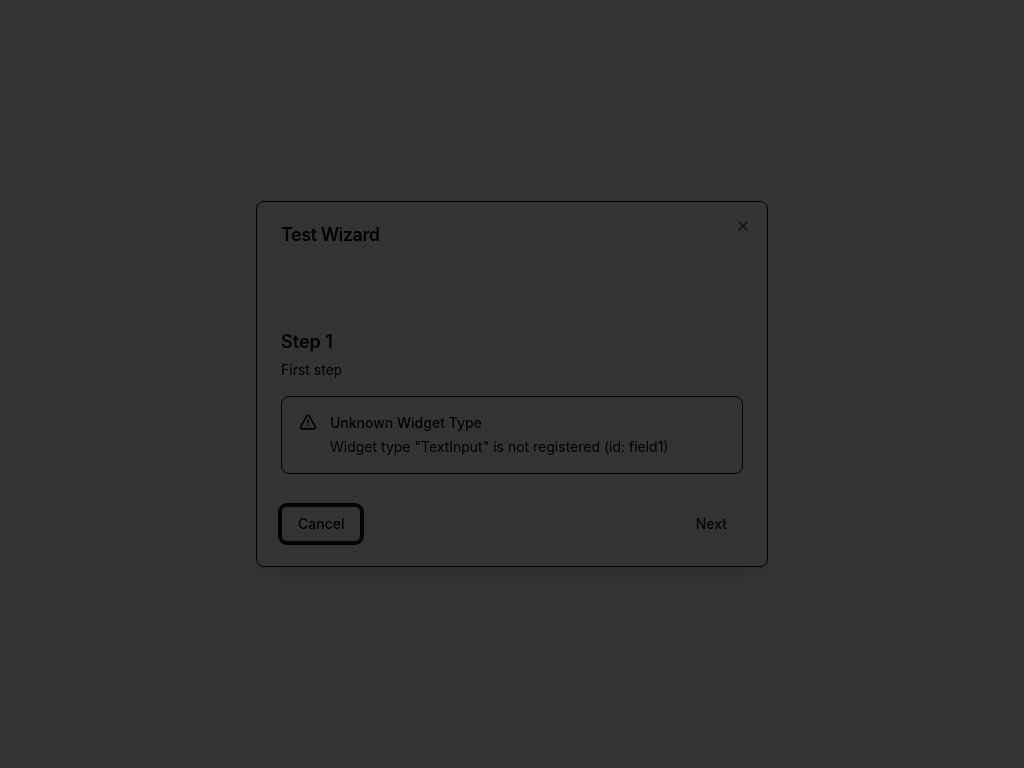
Test: WizardWidget › navigates to next step when Next is clicked
This screenshot has width=1024, height=768.
What coordinates should you click on to do the following:
click the button "Next"
I would click on:
 (711, 524)
Its box is [680,506,743,542].
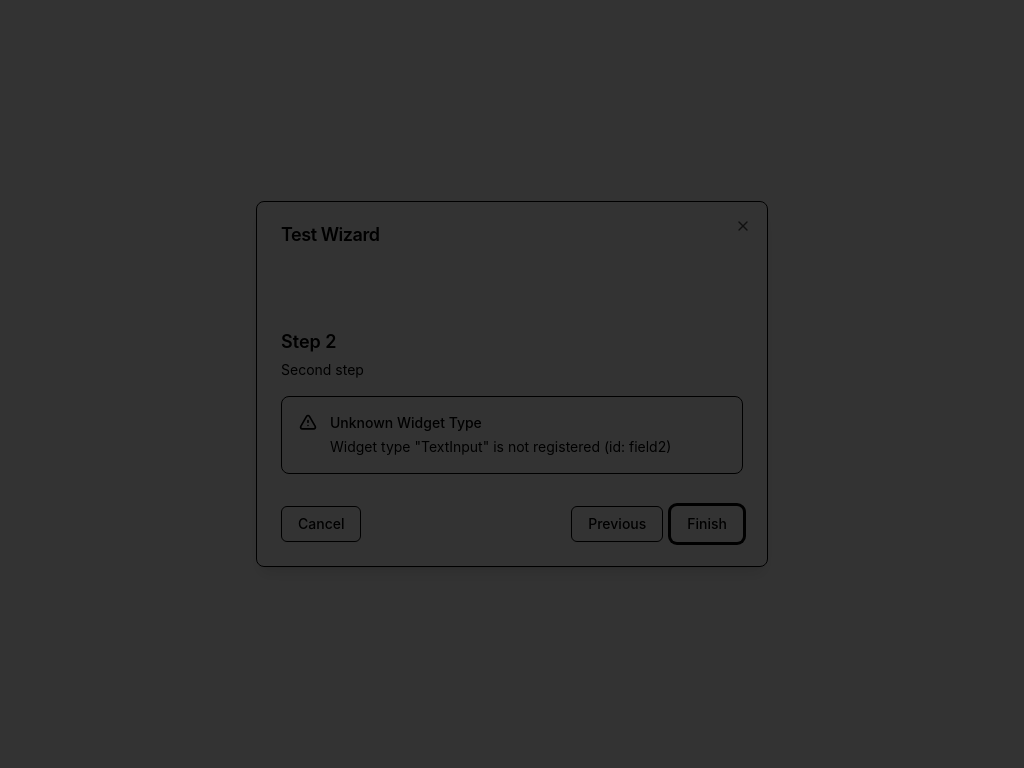
Result: the heading "Step 2" is shown at [281,331,336,352]
Result: the text "Second step" is shown at [281,361,364,378]
